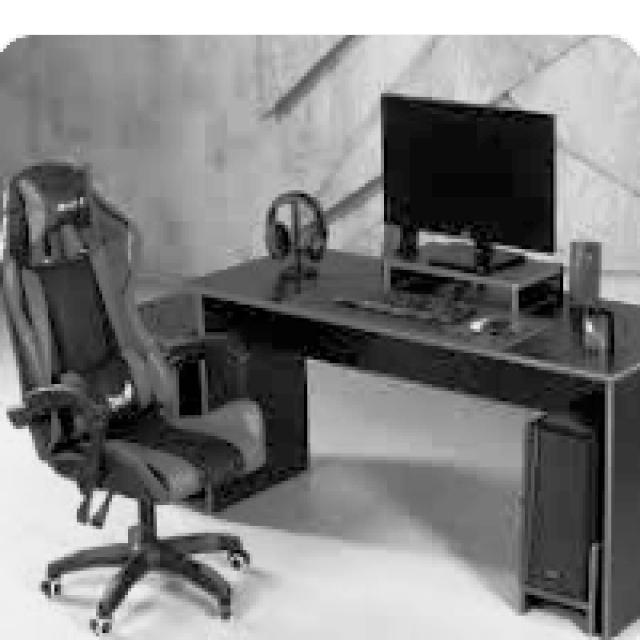book: (0, 159, 266, 633)
table: (179, 242, 637, 637)
